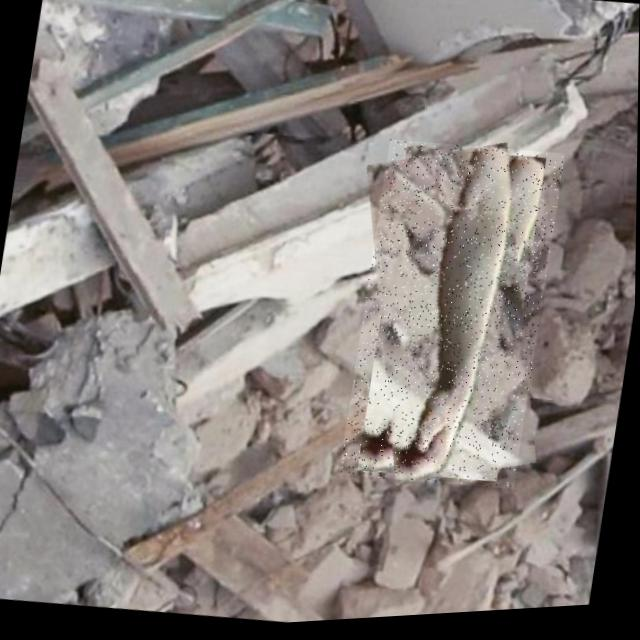Person in Rubble: (339, 136, 565, 503)
